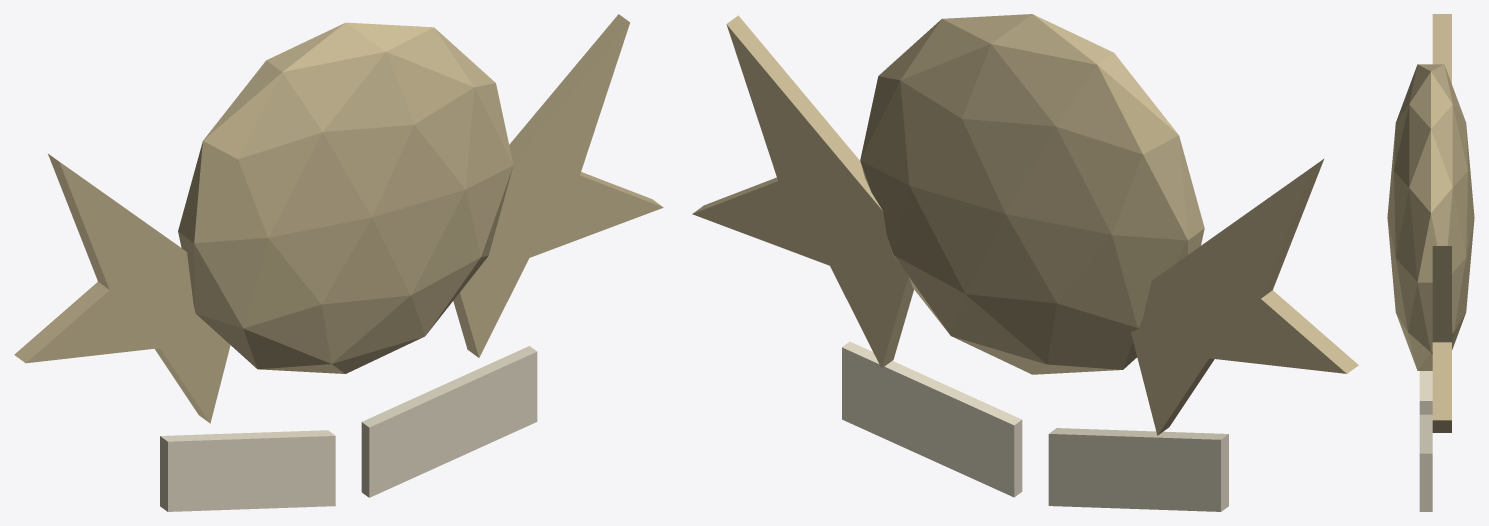
The model's file is moon-spoon.glb.
The picture shows the model from 3 angles, left to right: view 1: azimuth 30°, elevation 25°; view 2: azimuth 150°, elevation 25°; view 3: azimuth 270°, elevation 25°; orthographic projection. The views are drawn at different scales.
Parts seen in each view (by area): view 1: Ruby blood moon.003, Bat wing.003, Open book left.003; view 2: Ruby blood moon.003, Bat wing.003, Open book left.003; view 3: Ruby blood moon.003, Bat wing.003, Open book left.003.
Boxes of the visible parts, bbox=[...] form: Ruby blood moon.003: bbox=[178, 22, 513, 373]; Bat wing.003: bbox=[14, 14, 663, 423]; Open book left.003: bbox=[160, 346, 537, 511]; Ruby blood moon.003: bbox=[860, 14, 1204, 374]; Bat wing.003: bbox=[692, 15, 1358, 435]; Open book left.003: bbox=[842, 341, 1228, 511]; Ruby blood moon.003: bbox=[1387, 64, 1474, 370]; Bat wing.003: bbox=[1432, 14, 1451, 432]; Open book left.003: bbox=[1419, 371, 1432, 511].
Size of the model in its own units: 0.038 by 0.027 by 0.0054.
